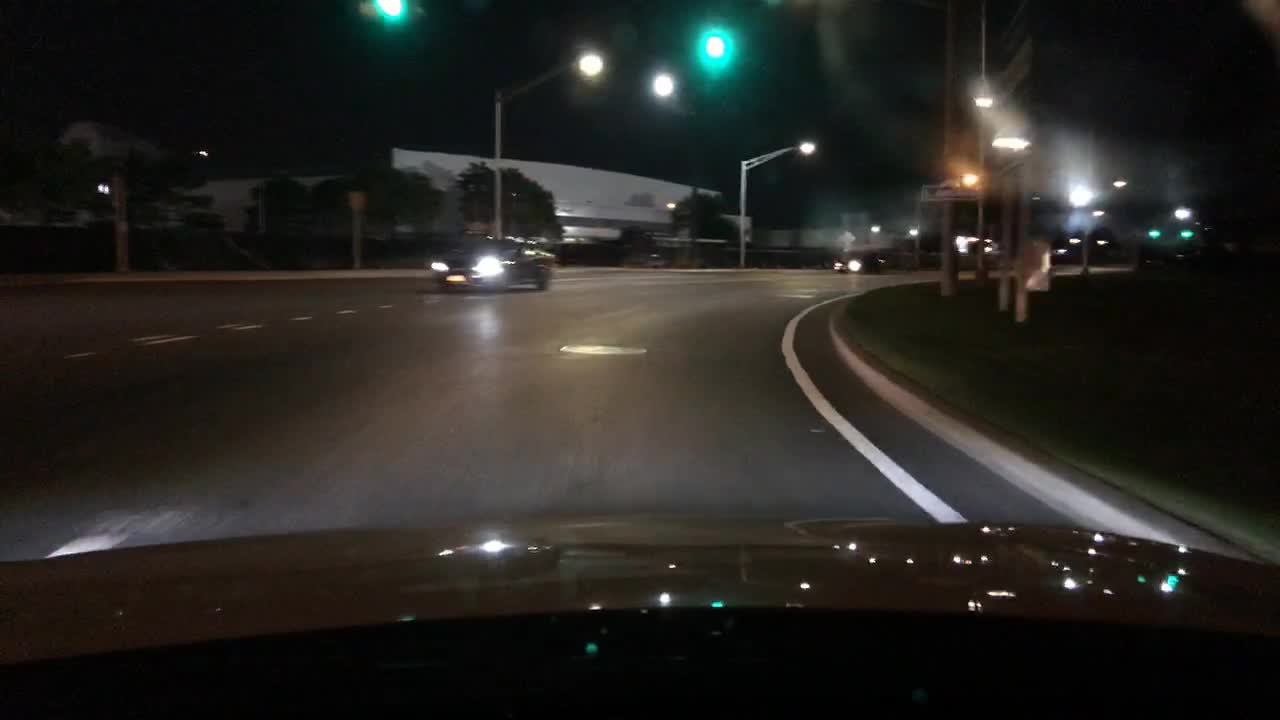car: (433, 232, 557, 295), (828, 252, 889, 276)
traffic light: (704, 19, 725, 63), (376, 0, 405, 18), (1147, 224, 1163, 241), (1180, 223, 1192, 242)
traffic sign: (839, 230, 856, 245)
